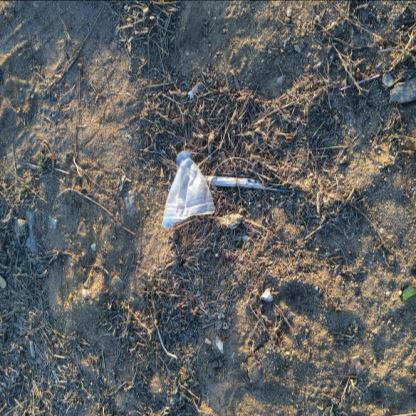Bottle cap: (162, 150, 215, 228)
Cigarette: (188, 81, 201, 99)
Other plastic: (341, 74, 380, 90)
Unlabeled litter: (203, 176, 292, 192), (390, 76, 416, 104), (402, 285, 416, 301)
